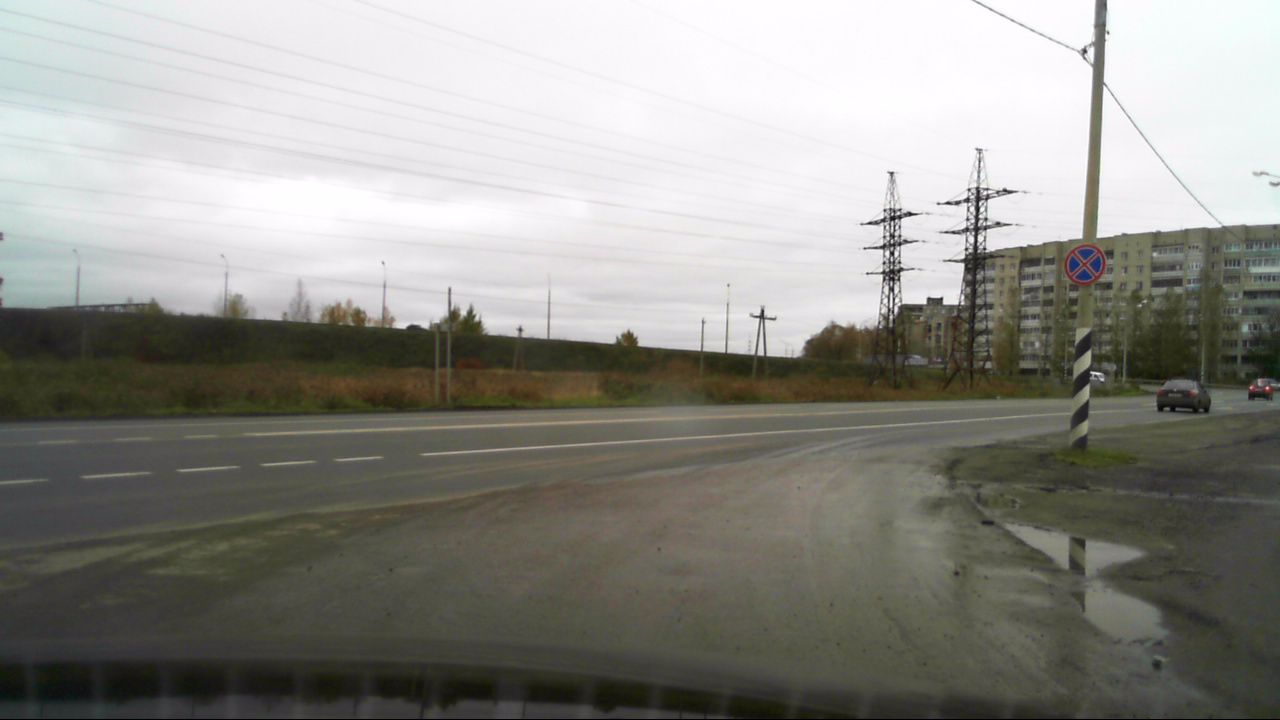No Parking: (1062, 242, 1107, 286)
